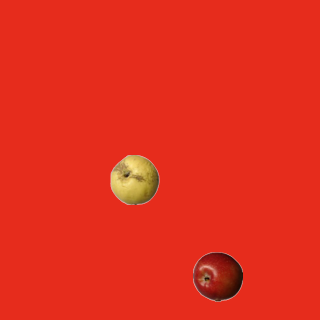Apple Braeburn: (192, 251, 242, 301)
Apple Golden 1: (109, 154, 159, 204)
